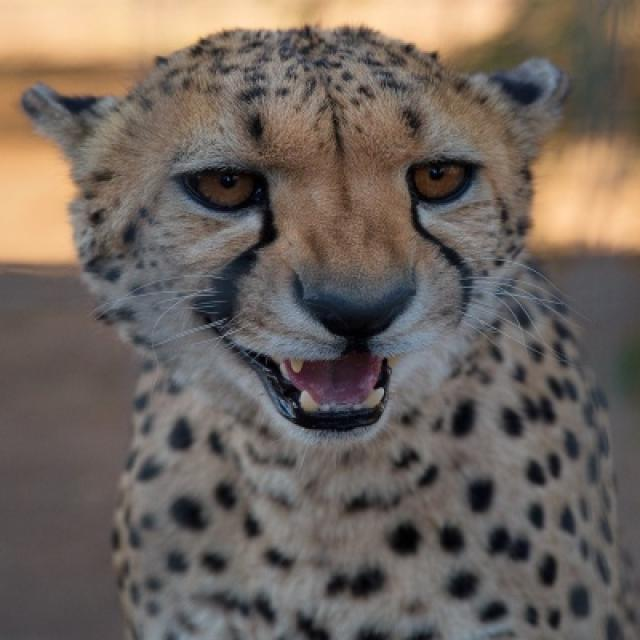Cheetah: (22, 29, 638, 638)
